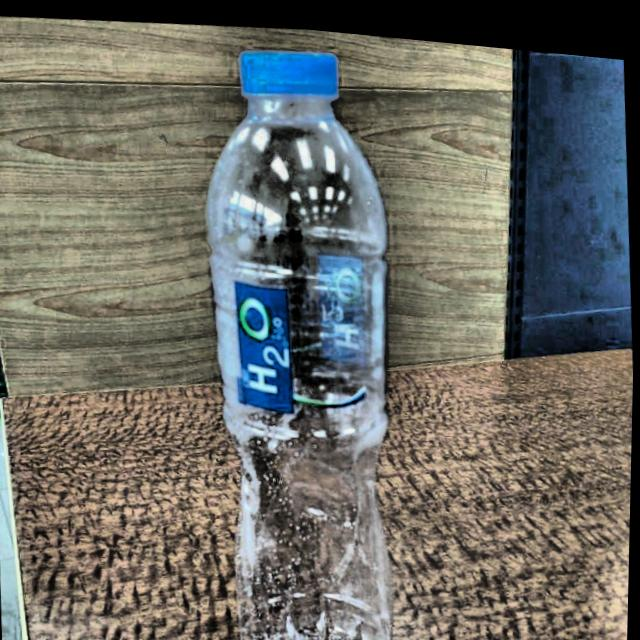Bottles: (179, 24, 441, 640)
